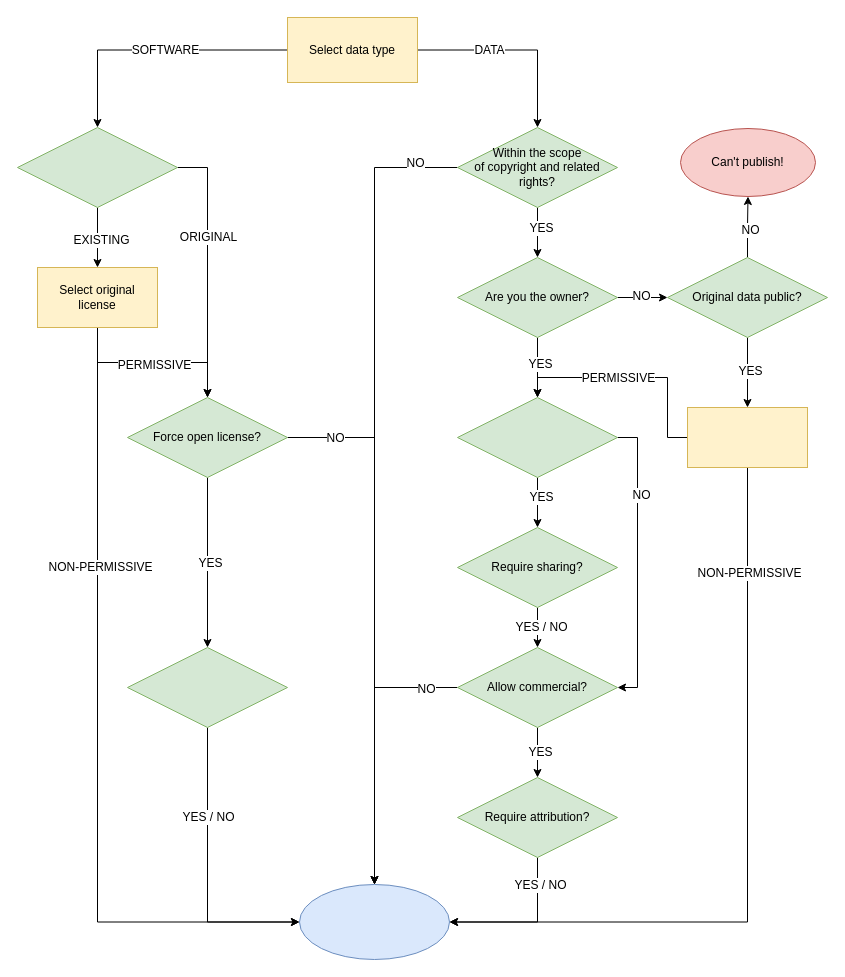
Some shapes in this 845 by 977 pixel diagram are drawn without their labels. The box of each missing label's shape, as (x1, y1, x2, y2) in pixels:
Allow derivatives?: (456, 396, 618, 478)
Based on existing or your original work?: (16, 126, 178, 208)
Choose license based on answers: (298, 884, 450, 960)
Choose original license(s): (686, 406, 808, 468)
Use as executable or library?: (126, 646, 288, 728)
